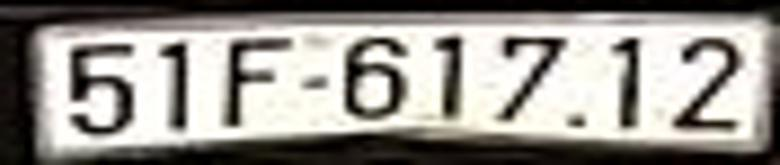-: (301, 76, 326, 86)
.: (565, 112, 588, 127)
1: (614, 33, 645, 130), (161, 41, 190, 129), (436, 33, 465, 117)
2: (679, 39, 738, 133)
5: (66, 44, 135, 134)
6: (342, 37, 403, 118)
7: (500, 36, 560, 119)
F: (227, 39, 289, 126)
